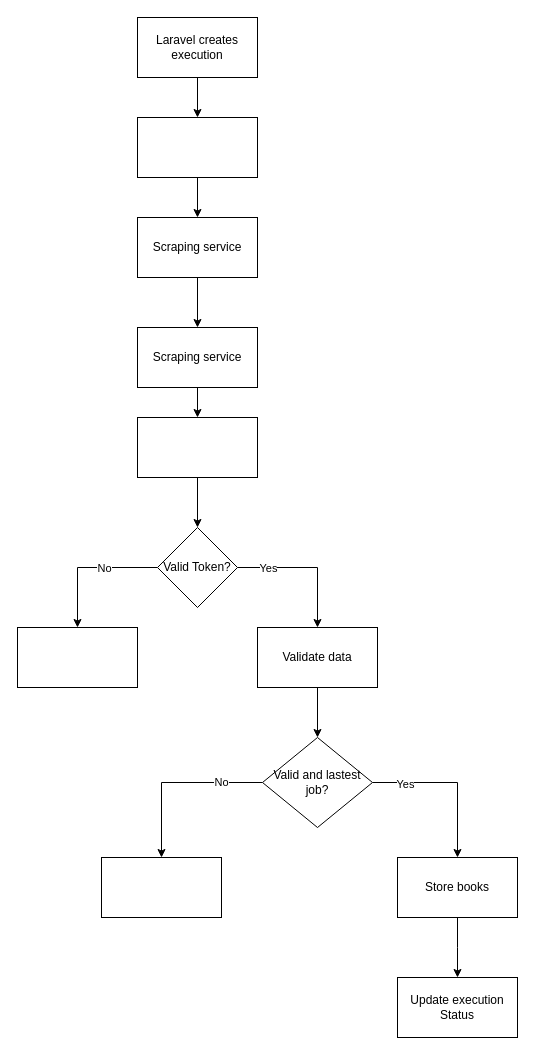
Image size: 535x1055. Some labels were removed from this diagram. The centre of each missing label's shape, as x and y in pixels:
Generate unique token: (x=197, y=147)
Ignore callback: (x=161, y=887)
Reject request: (x=77, y=657)
Send callback: (x=197, y=447)
